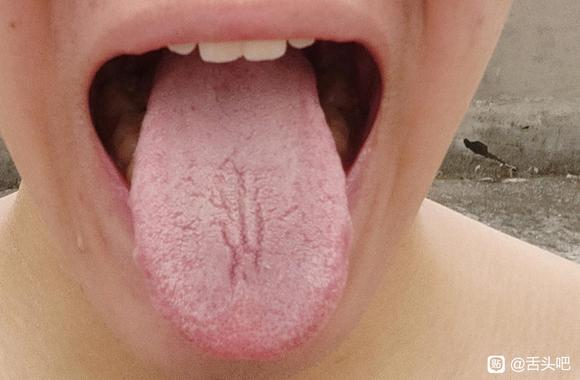baitaishe: (127, 52, 352, 362)
liewenshe: (207, 156, 268, 286)
